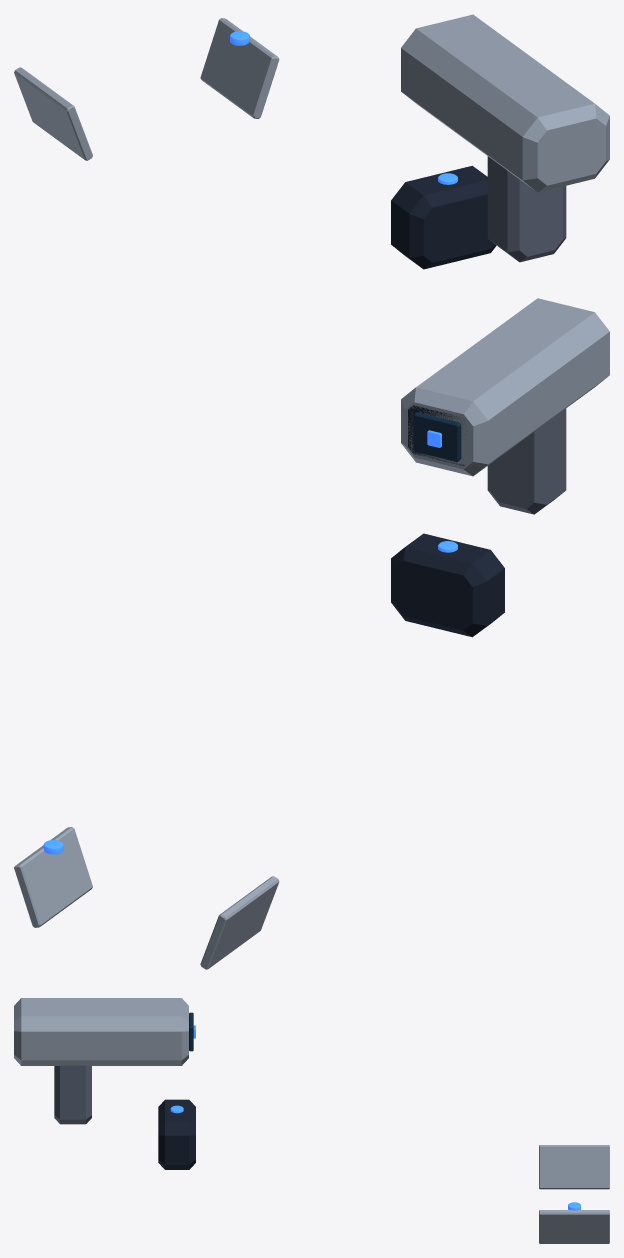
File: tower_lance_range_s4.glb
3 views of the same model, one above another, from view 1: azimuth 30°, elevation 25°; view 2: azimuth 150°, elevation 25°; view 3: azimuth 270°, elevation 25° (orthographic). The views are drawn at different scales.
Visible parts, largest first — view 1: lance_optic_long, lance_optic_shade_deep, lance_optic_riser, lance_stab_fin_l, lance_stab_fin_r; view 2: lance_optic_long, lance_optic_shade_deep, lance_optic_riser, lance_stab_fin_l, lance_stab_fin_r, lance_optic_long_lens; view 3: lance_optic_long, lance_stab_fin_r, lance_optic_shade_deep, lance_stab_fin_l, lance_optic_riser.
Boxes of the visible parts, box(x1,y1,x2,y2) form: lance_optic_long: box(401, 14, 609, 192); lance_optic_shade_deep: box(391, 165, 496, 269); lance_optic_riser: box(487, 156, 566, 262); lance_stab_fin_l: box(200, 18, 279, 118); lance_stab_fin_r: box(14, 67, 92, 160); lance_optic_long: box(401, 298, 609, 476); lance_optic_shade_deep: box(391, 533, 504, 637); lance_optic_riser: box(487, 408, 566, 514); lance_stab_fin_l: box(14, 827, 92, 927); lance_stab_fin_r: box(200, 876, 279, 969); lance_optic_long_lens: box(413, 412, 461, 461); lance_optic_long: box(14, 998, 188, 1065); lance_stab_fin_r: box(539, 1145, 609, 1189); lance_optic_shade_deep: box(158, 1099, 195, 1169); lance_stab_fin_l: box(539, 1210, 609, 1243); lance_optic_riser: box(54, 1065, 91, 1124).
Size of the model in its own units: 0.6857 by 0.9763 by 2.52.
